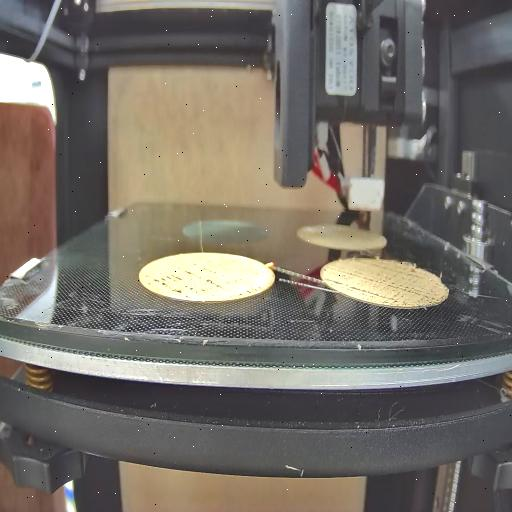under_extrusion: (324, 266, 435, 302), (140, 268, 262, 296)
